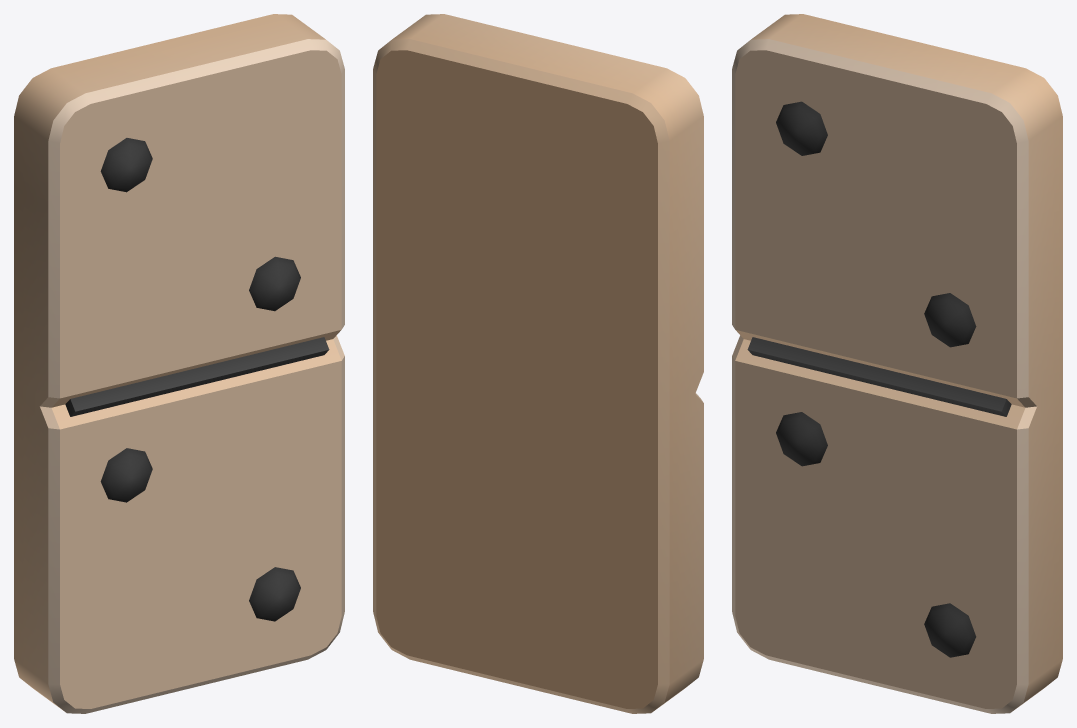
File: KFB_Domino_2-2.r1.glb
The picture shows the model from 3 angles, left to right: view 1: azimuth 30°, elevation 25°; view 2: azimuth 150°, elevation 25°; view 3: azimuth 330°, elevation 25°; orthographic projection.
Parts seen in each view (by area): view 1: KFB_Domino_2-2; view 2: KFB_Domino_2-2; view 3: KFB_Domino_2-2.
Boxes of the visible parts, bbox=[...] form: KFB_Domino_2-2: bbox=[14, 14, 344, 713]; KFB_Domino_2-2: bbox=[373, 14, 703, 713]; KFB_Domino_2-2: bbox=[732, 14, 1062, 713].
Size of the model in its own units: 2.44 by 4.87 by 0.6739.
1 material, 1 textured.
